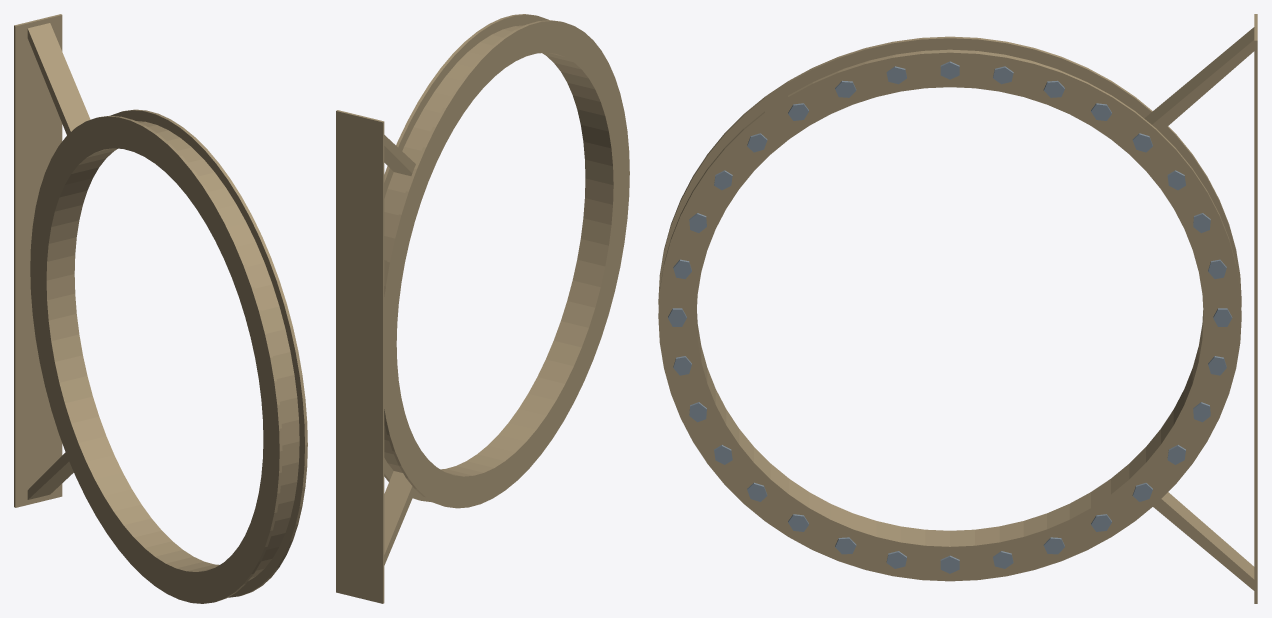
Rendered from AirFlowSensor.glb.
3 renders of one model, left to right at view 1: azimuth 30°, elevation 25°; view 2: azimuth 150°, elevation 25°; view 3: azimuth 270°, elevation 25°, orthographic. The views are drawn at different scales.
Visible parts, largest first — view 1: child.002, child.001, child.004, child.003; view 2: child.002, child.001, child.003, child.004; view 3: child.002, child.005, child.004, child.003, child.001.
Boxes of the visible parts, x1,y1,x2,y2 form: child.002: (30,109,307,603); child.001: (14,14,62,507); child.004: (27,23,90,135); child.003: (27,452,73,499); child.002: (384,14,629,508); child.001: (336,110,384,603); child.003: (384,471,415,565); child.004: (384,135,415,175); child.002: (658,36,1241,581); child.005: (668,61,1232,573); child.004: (1144,27,1254,132); child.003: (1153,492,1254,590); child.001: (1254,14,1257,603).
Size of the model in its own units: 100 by 980 by 945.
